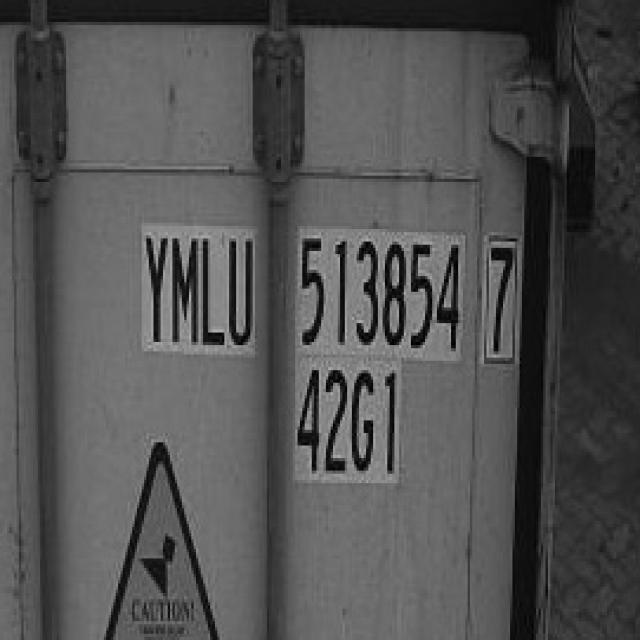dv: (478, 232, 529, 370)
owner: (136, 224, 260, 358)
serial: (297, 223, 467, 358)
size: (292, 364, 402, 487)
